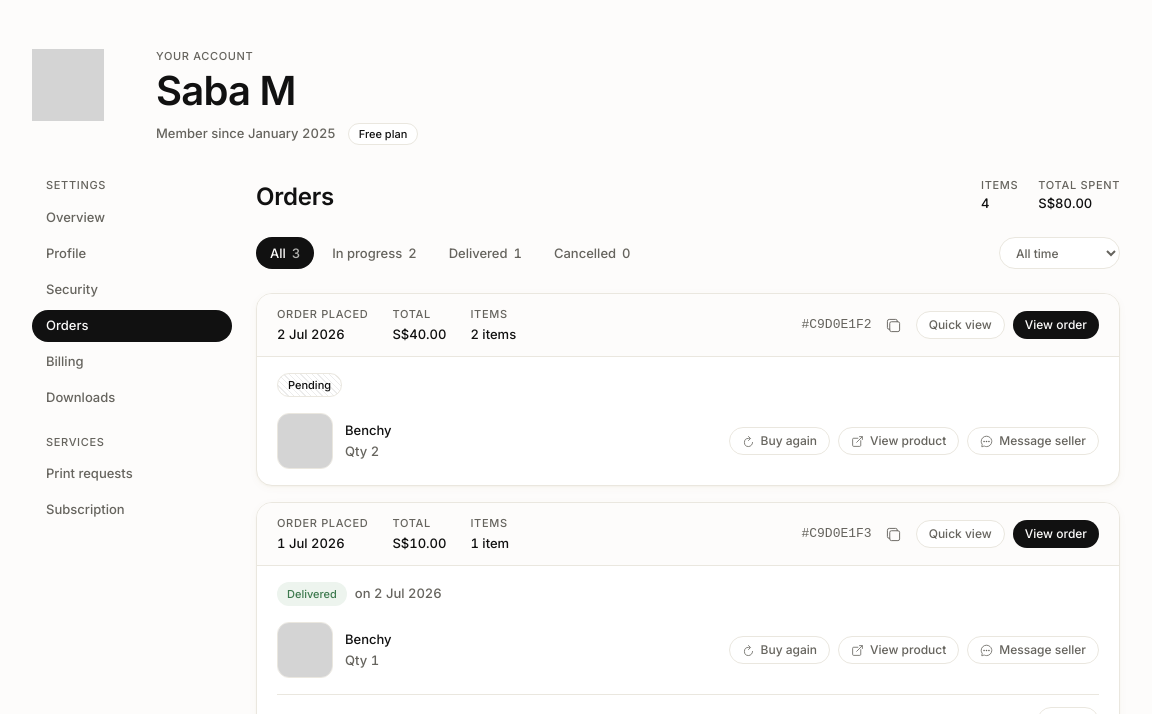
Account hub › renders no dotted leaders and keeps mono to order numbers only
The image size is (1152, 714).
Open the peek too: its rows are plain label/value, not leader dots.
Click the button "Quick view" next to "C9D0E1F2" at (960, 325), box x1=916 y1=311 x2=1005 y2=339
(page scrolled)
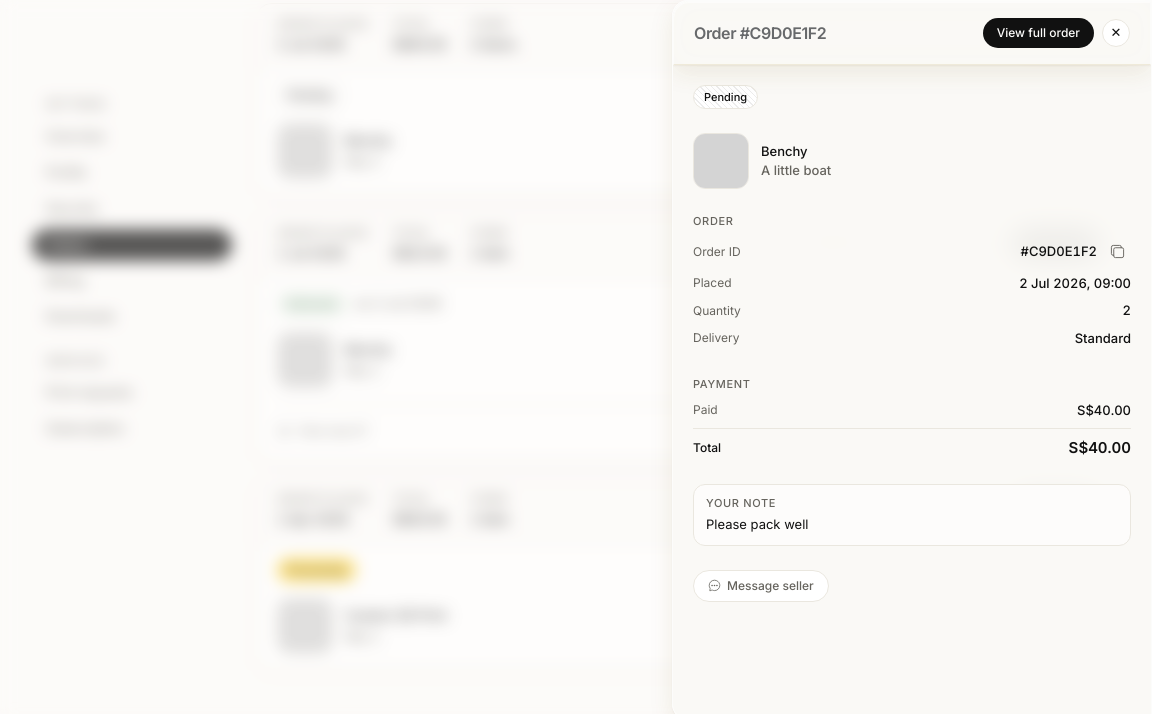
Expected: the text with class "font-mono" reads "#C9D0E1F2", x1=801 y1=25 x2=872 y2=45
Result: the link "View full order" is shown at x1=983 y1=18 x2=1094 y2=48
